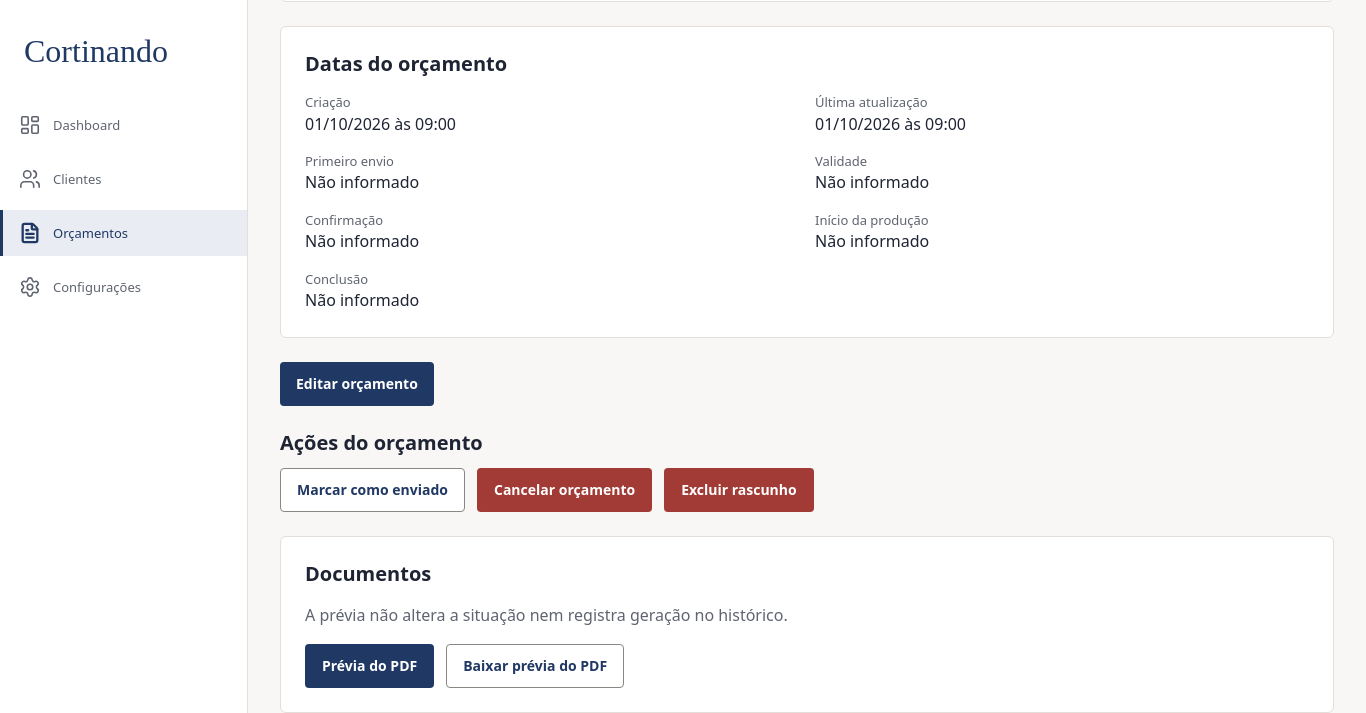
edit link opens the implemented edit page
This screenshot has width=1366, height=713.
(page scrolled)
Click the link "Editar orçamento": (357, 384) left=280, top=362, right=434, bottom=406
(page scrolled)
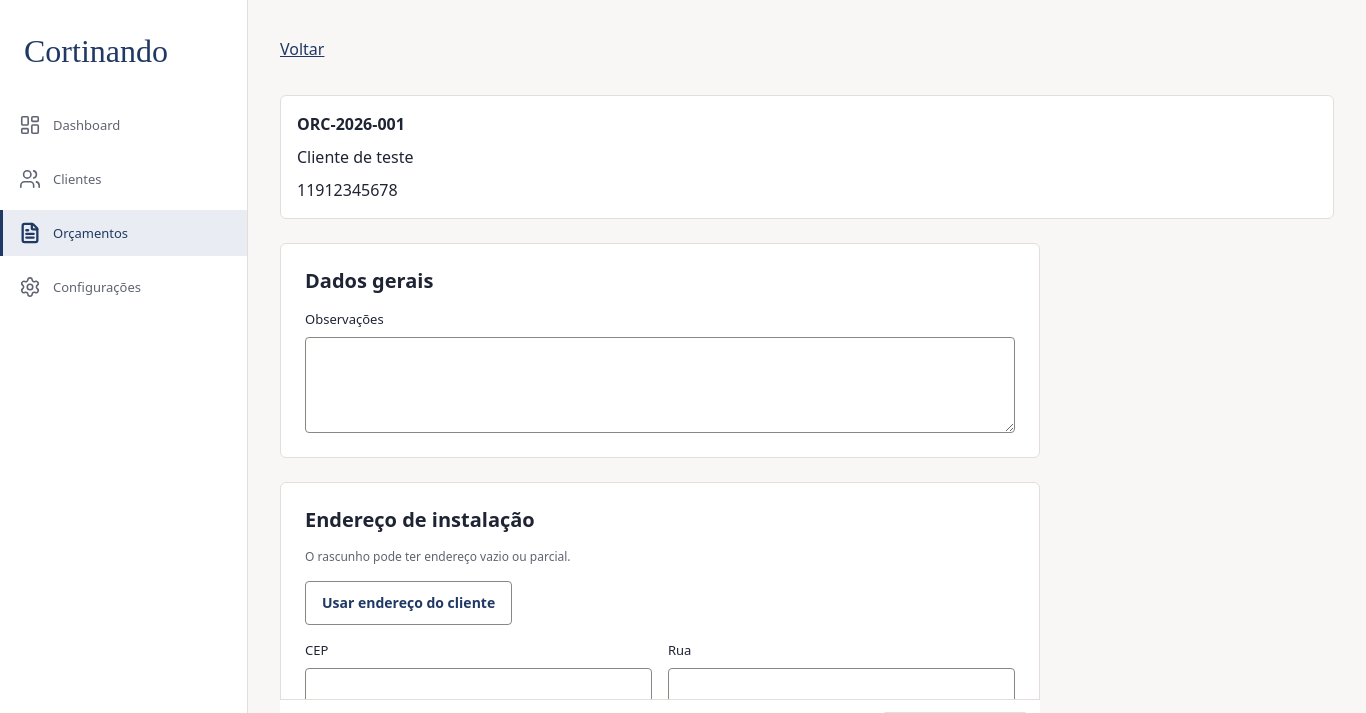
Expected: the text box labelled "Observações" is shown, left=305, top=337, right=1015, bottom=433
